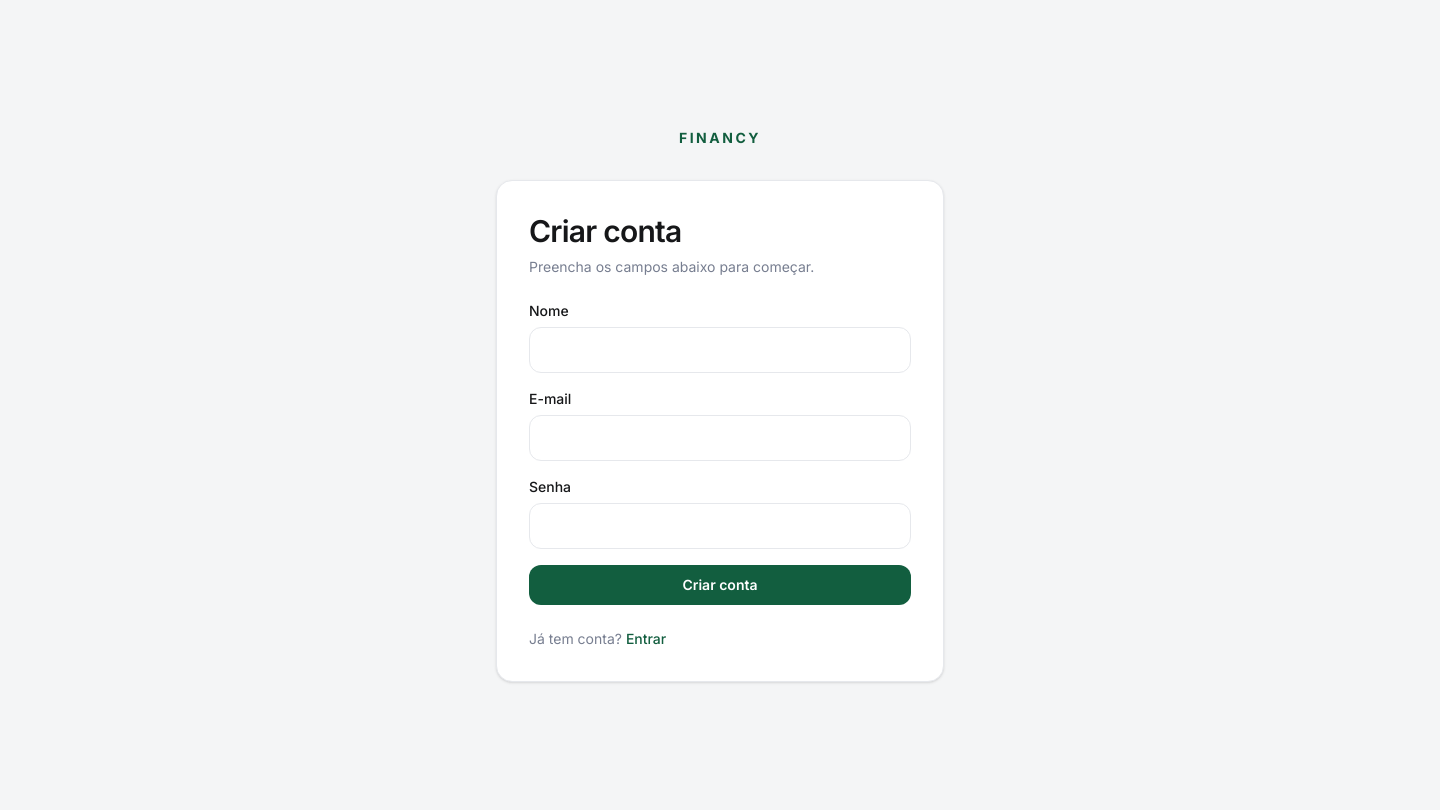
Scenario: visitor authentication › opens the dashboard after a valid sign-up
Step 1. Type "Ana" into the field labelled "Nome" → (720, 350), box [529,327,911,373]
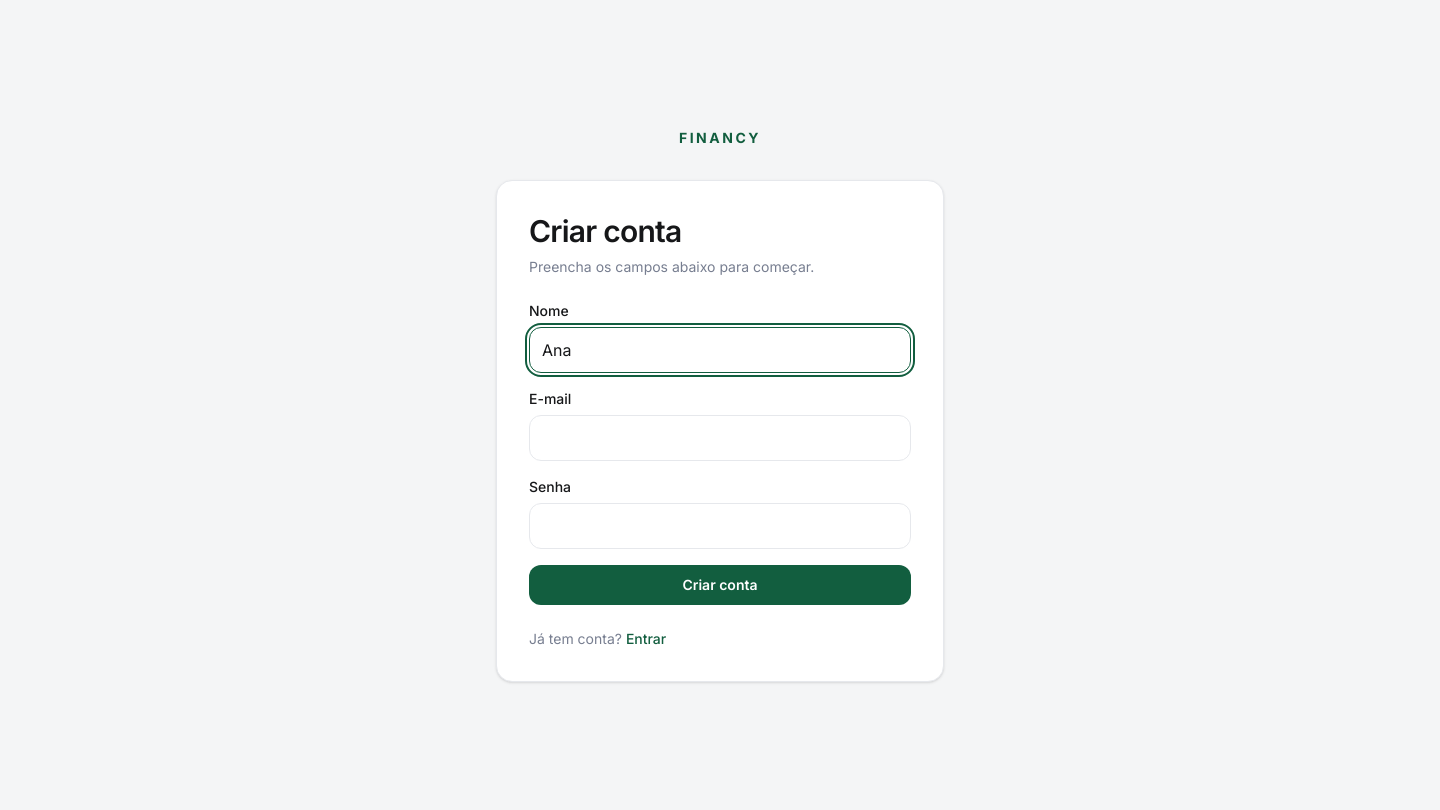
Step 2. Type "ana@financy.test" into the field labelled "E-mail" → (720, 438), box [529,415,911,461]
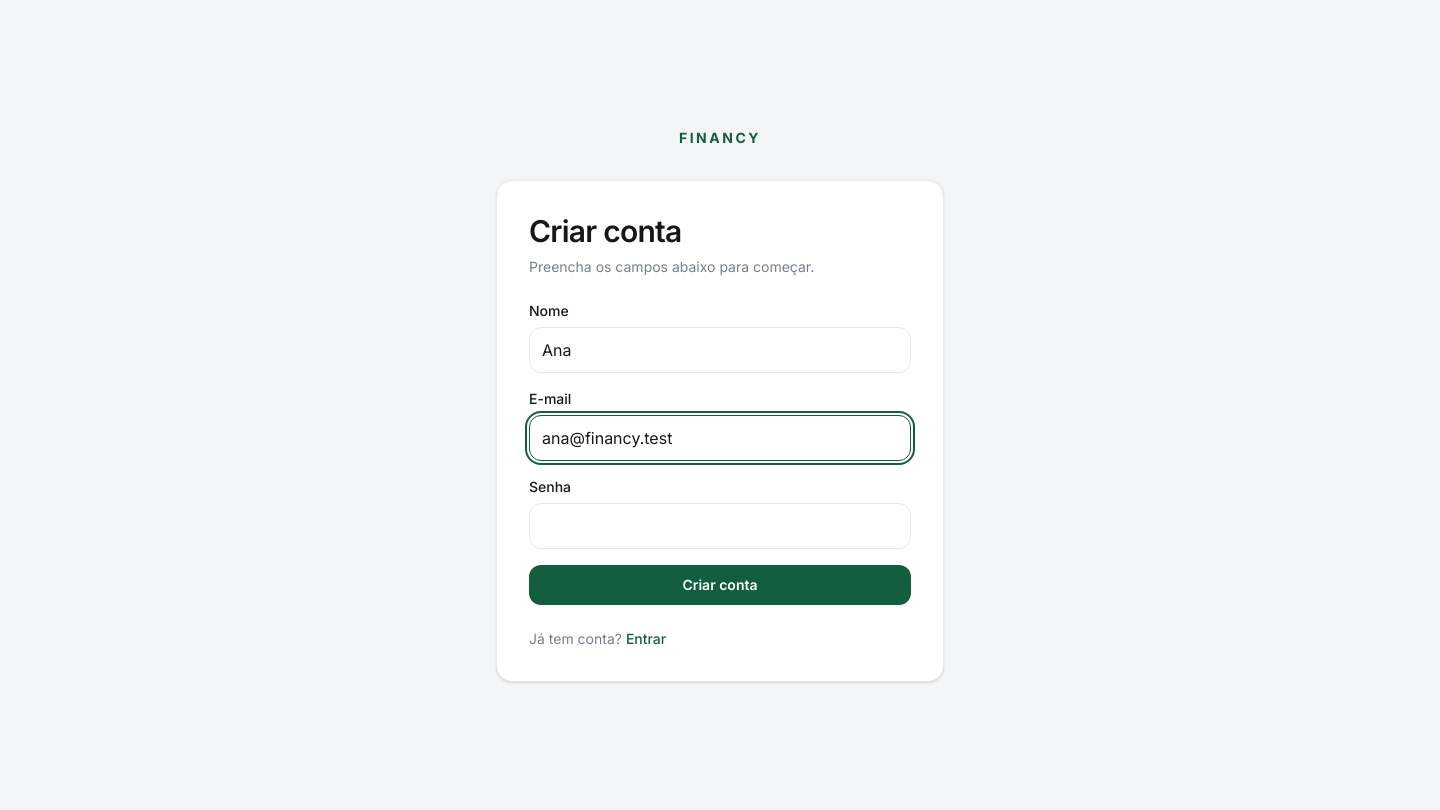
Step 3. Type "correct horse" into the password field labelled "Senha" → (720, 526), box [529,503,911,549]
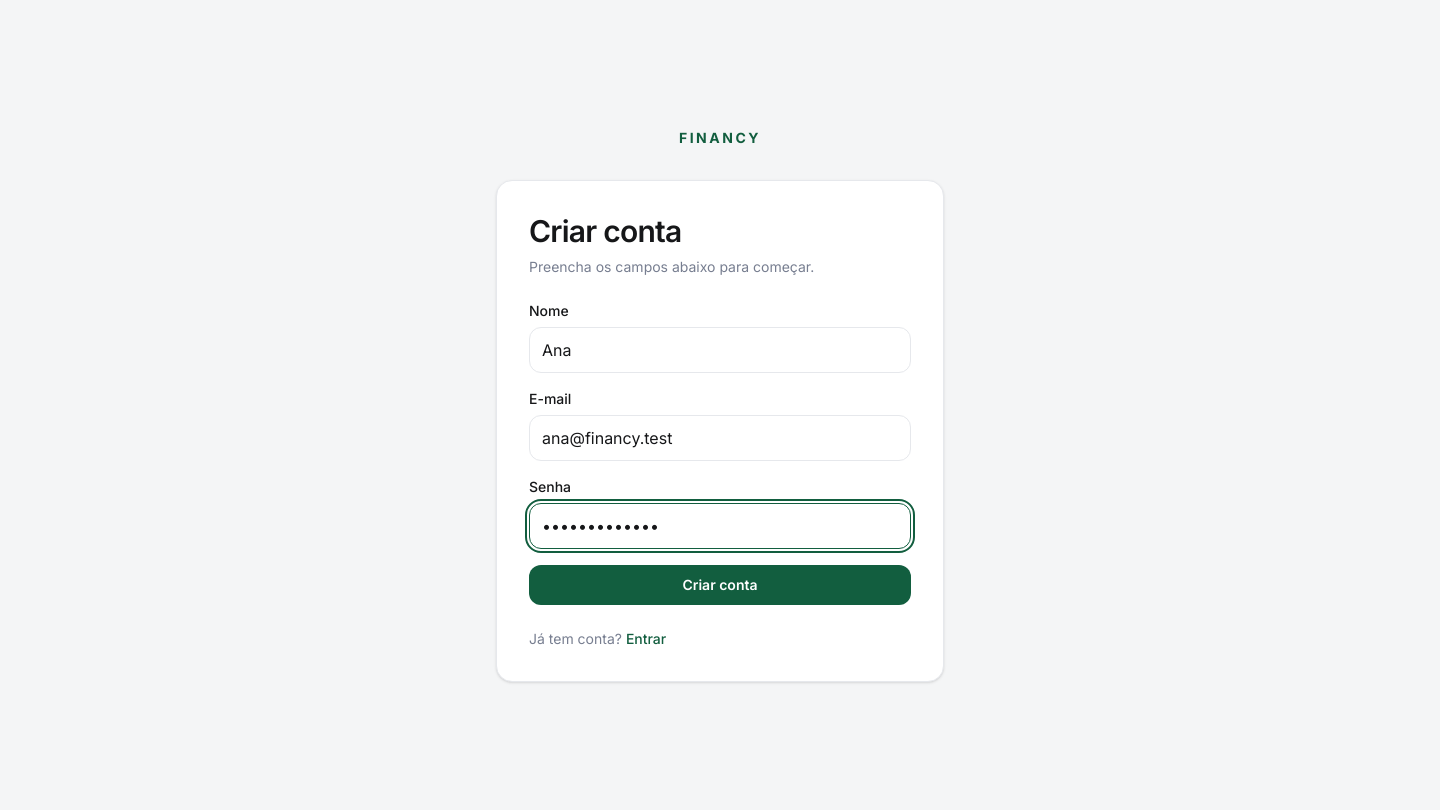
Step 4. Click the button "Criar conta" → click(720, 585), box [529,565,911,605]
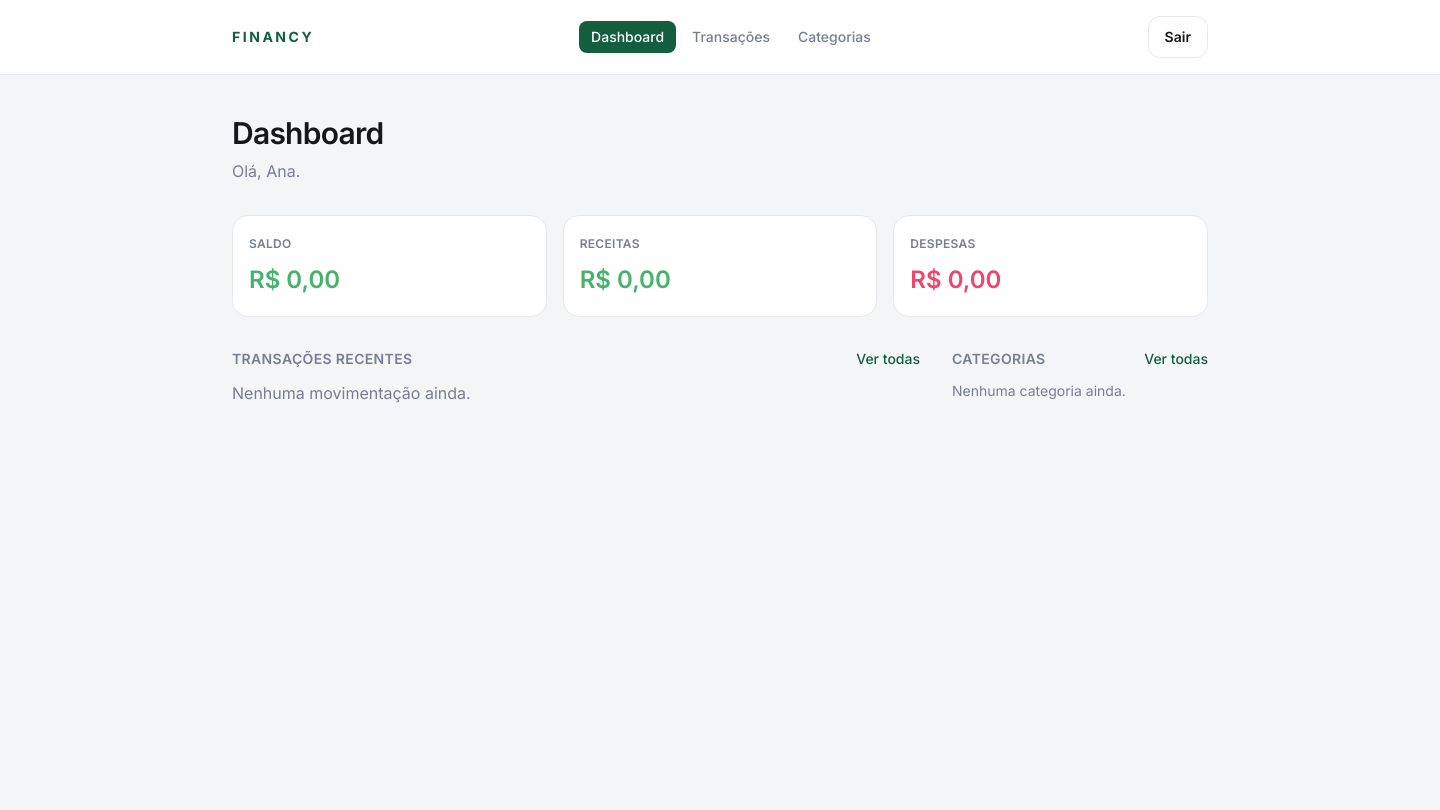
expect the heading "Dashboard" is shown: met, box [232,115,384,151]
